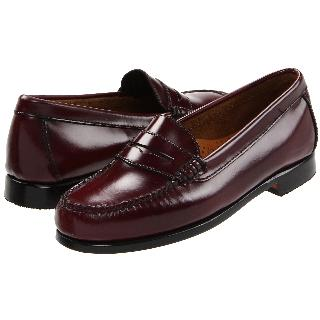loafers: (6, 58, 320, 260)
